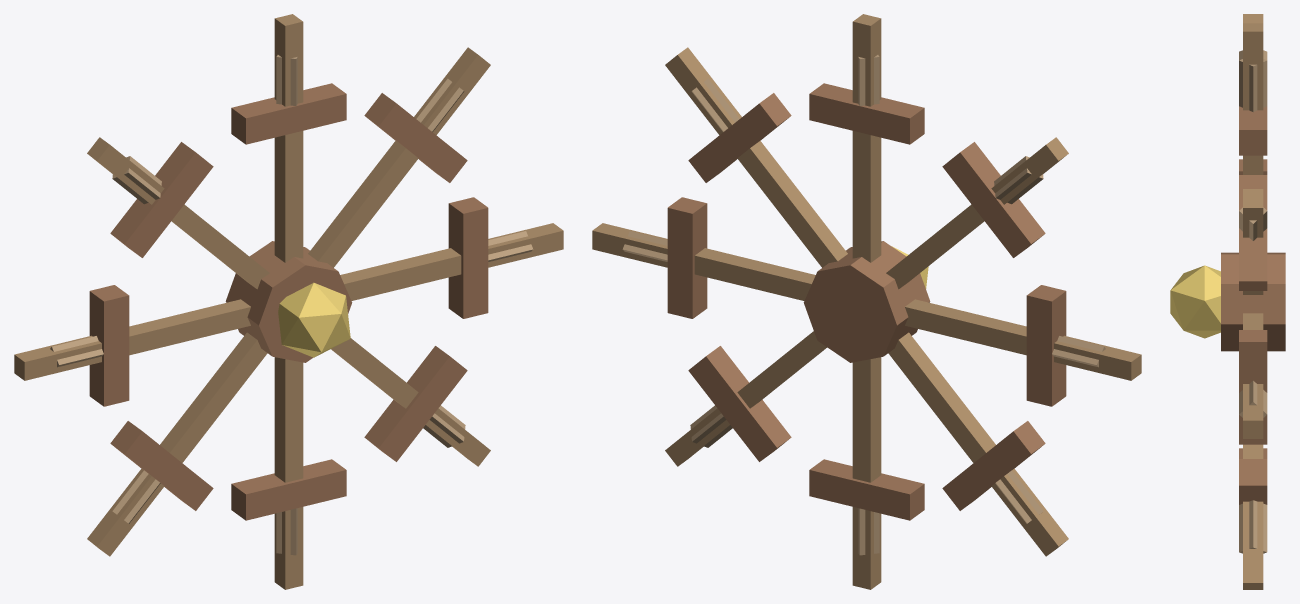
The model's file is ship_wheel.glb.
The picture shows the model from 3 angles, left to right: view 1: azimuth 30°, elevation 25°; view 2: azimuth 150°, elevation 25°; view 3: azimuth 270°, elevation 25°; orthographic projection. The views are drawn at different scales.
Visible parts, largest first — view 1: spoke_5, spoke_0, spoke_1, spoke_6, hub.001, spoke_4, spoke_2, rim_3.001, rim_7, rim_2.001, rim_6, rim_4 (+8 smaller); view 2: hub.001, spoke_0, spoke_1, spoke_5, spoke_2, spoke_6, spoke_4, rim_3.001, rim_7, rim_2.001, rim_6, rim_4 (+7 smaller); view 3: hub.001, boss, rim_1.001, rim_2.001, spoke_0, spoke_3, spoke_2, rim_0.001, rim_3.001, spoke_1, grip_3, grip_0 (+3 smaller).
Boxes of the visible parts, left/top/right/bottom form: spoke_5: left=87, top=211, right=363, bottom=556; spoke_0: left=274, top=14, right=303, bottom=401; spoke_1: left=214, top=47, right=490, bottom=392; spoke_6: left=14, top=274, right=383, bottom=380; hub.001: left=225, top=241, right=352, bottom=362; spoke_4: left=274, top=209, right=303, bottom=589; spoke_2: left=194, top=223, right=563, bottom=318; rim_3.001: left=364, top=346, right=467, bottom=461; rim_7: left=110, top=142, right=213, bottom=257; rim_2.001: left=448, top=197, right=488, bottom=318; rim_6: left=89, top=285, right=129, bottom=406; rim_4: left=231, top=459, right=346, bottom=520; hub.001: left=803, top=241, right=930, bottom=362; spoke_0: left=852, top=14, right=881, bottom=401; spoke_1: left=665, top=47, right=941, bottom=392; spoke_5: left=805, top=211, right=1068, bottom=556; spoke_2: left=592, top=223, right=961, bottom=336; spoke_6: left=772, top=274, right=1141, bottom=380; spoke_4: left=852, top=210, right=881, bottom=589; rim_3.001: left=688, top=346, right=791, bottom=461; rim_7: left=942, top=142, right=1045, bottom=257; rim_2.001: left=667, top=197, right=707, bottom=318; rim_6: left=1026, top=285, right=1066, bottom=406; rim_4: left=809, top=459, right=924, bottom=520; hub.001: left=1221, top=252, right=1285, bottom=351; boss: left=1170, top=265, right=1220, bottom=338; rim_1.001: left=1239, top=175, right=1267, bottom=290; rim_2.001: left=1239, top=330, right=1267, bottom=444; spoke_0: left=1243, top=23, right=1263, bottom=174; spoke_3: left=1243, top=444, right=1263, bottom=589; spoke_2: left=1243, top=313, right=1263, bottom=438; rim_0.001: left=1239, top=106, right=1267, bottom=155; rim_3.001: left=1239, top=459, right=1267, bottom=504; spoke_1: left=1243, top=189, right=1263, bottom=294; grip_3: left=1239, top=500, right=1267, bottom=553; grip_0: left=1239, top=59, right=1267, bottom=111.
Bounding box in the file's own units: 1.5 × 1.5 × 0.2851.
